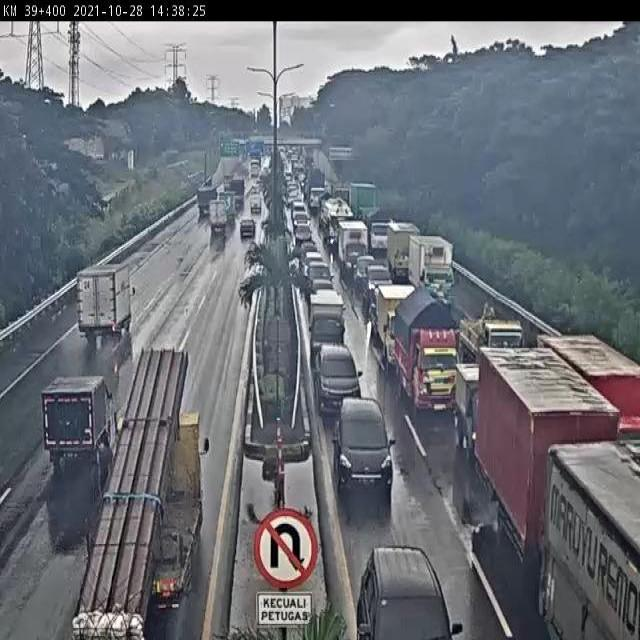big truck: (79, 345, 210, 640), (479, 344, 621, 583), (547, 440, 640, 640), (535, 334, 640, 450)
car: (361, 533, 461, 640), (337, 394, 394, 494), (313, 345, 365, 415), (353, 256, 386, 293), (368, 265, 392, 311), (312, 276, 339, 299), (307, 260, 340, 277), (240, 216, 257, 241)
small truck: (395, 286, 462, 414), (42, 368, 110, 469), (75, 261, 136, 344), (376, 285, 429, 376), (463, 308, 529, 368), (455, 363, 497, 456), (409, 237, 461, 308), (387, 221, 429, 279), (310, 292, 354, 344), (339, 222, 376, 278), (209, 200, 228, 236)
